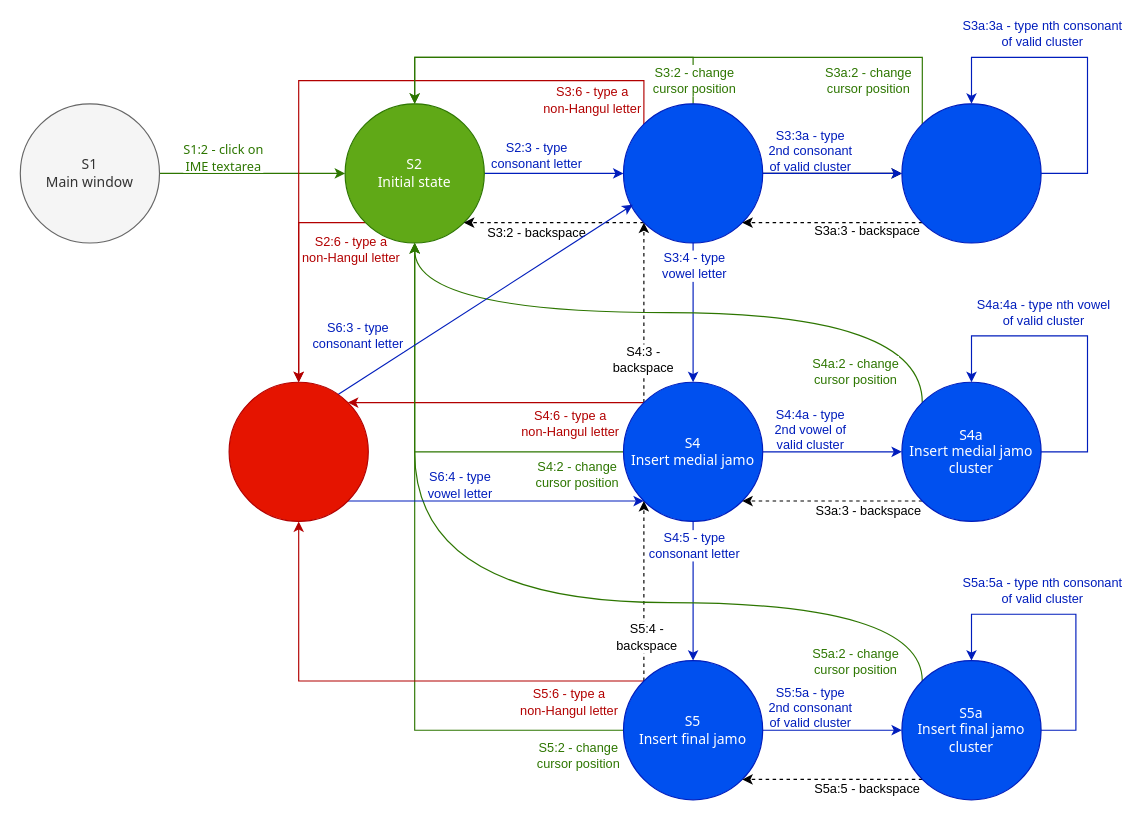
This 1141x821 diagram has some shape labels left out. The centre of each missing label's shape, as x and y in pixels:
"S3 Insert initial jamo" goes at point 692,173.
"S3a Insert initial jamo cluster" goes at point 971,173.
"S6 Insert non-Hangul letter" goes at point 298,451.
